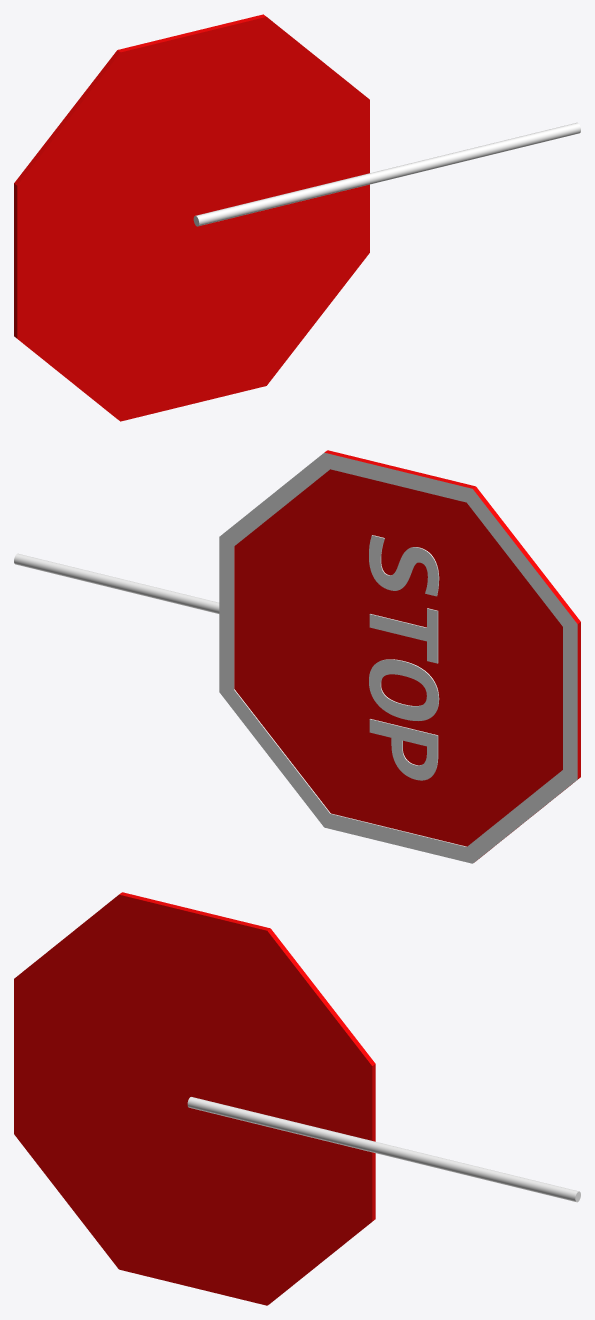
Rendered from stop.dae.
The picture shows the model from 3 angles, top to bottom: view 1: azimuth 30°, elevation 25°; view 2: azimuth 150°, elevation 25°; view 3: azimuth 330°, elevation 25°; orthographic projection.
Parts seen in each view (by area): view 1: stop (×2); view 2: stop (×2); view 3: stop (×2).
Boxes of the visible parts, left/top/right/bottom form: stop (×2): left=14, top=14, right=580, bottom=421; stop (×2): left=14, top=450, right=580, bottom=863; stop (×2): left=14, top=892, right=580, bottom=1305.
Bounding box in the file's own units: 585 × 16 × 370.
